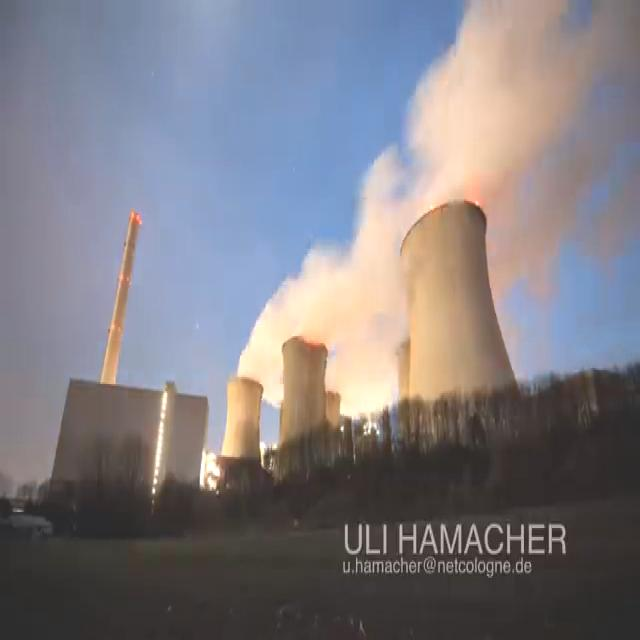smoke: (235, 0, 640, 418)
